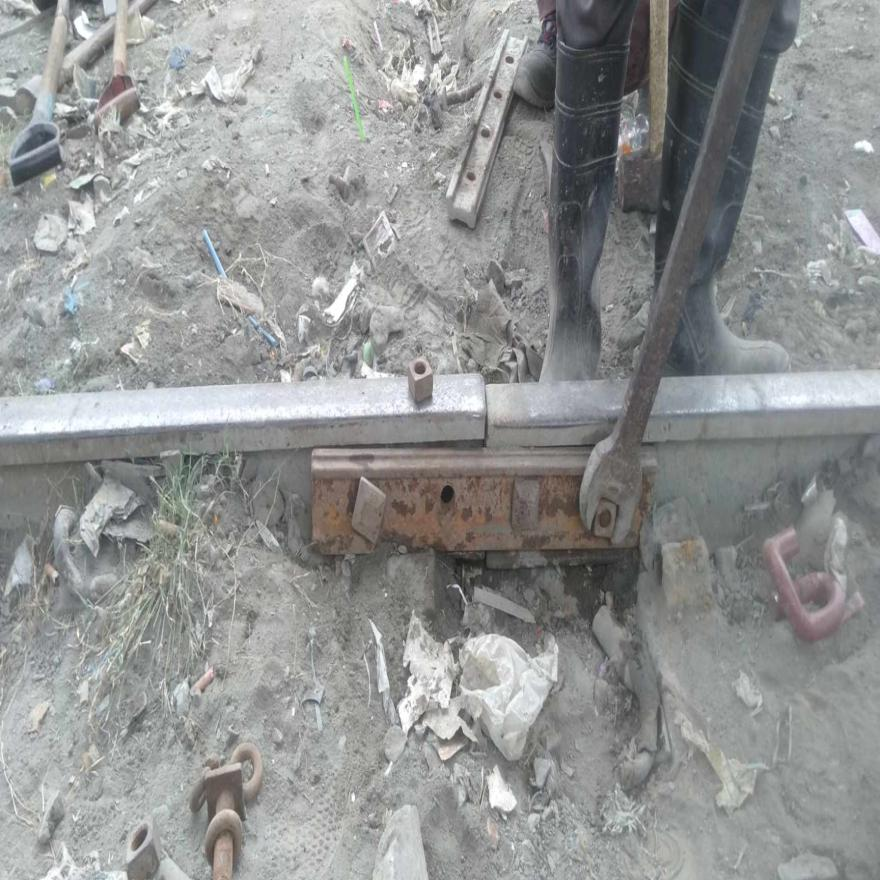railway-gap: (452, 363, 520, 461)
